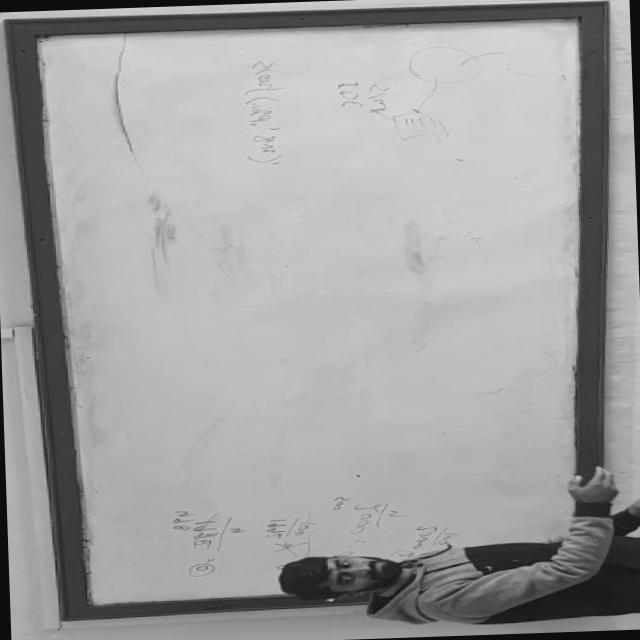Instructor: (247, 510, 640, 640)
White-board: (16, 6, 598, 614)
